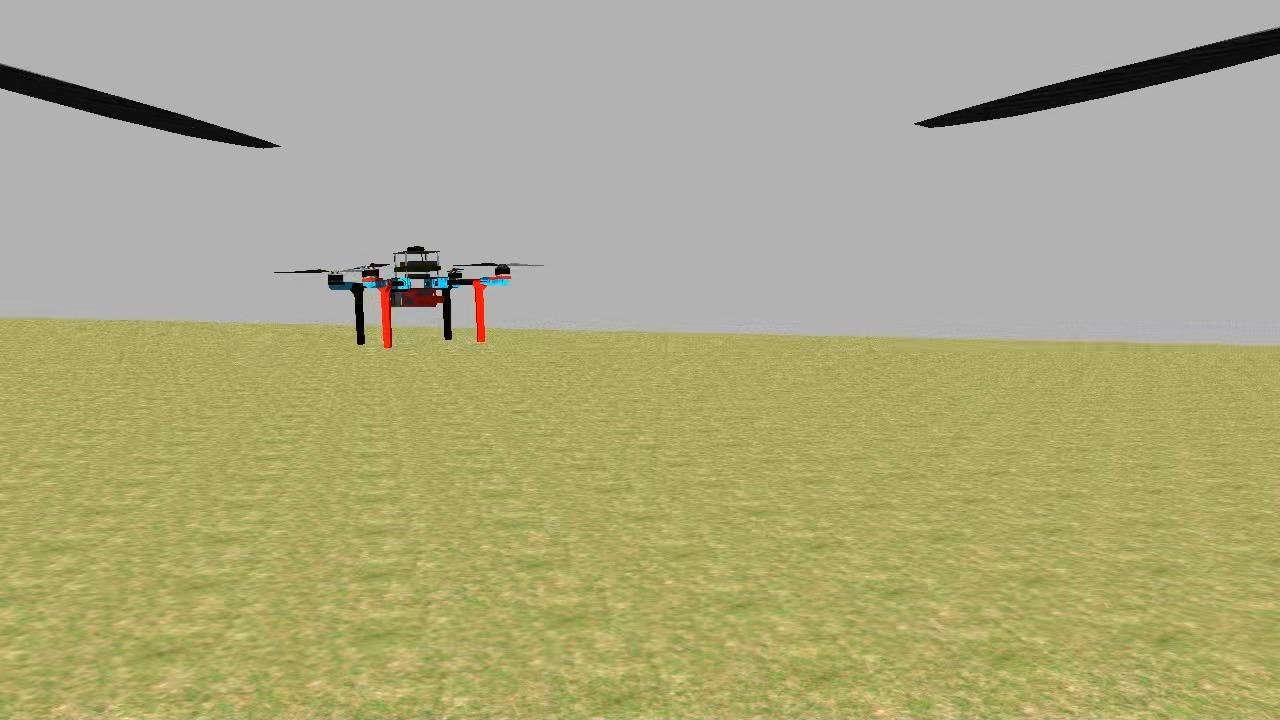UAV: (320, 238, 524, 354)
